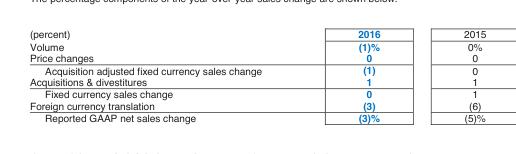table: (28, 29, 485, 123)
table column: (28, 29, 309, 123), (309, 29, 421, 123), (421, 29, 485, 123)
table column header: (28, 29, 485, 40)
table row: (28, 40, 485, 52), (28, 52, 485, 64), (28, 64, 485, 76), (28, 76, 485, 88), (28, 88, 485, 100), (28, 100, 485, 112), (28, 29, 485, 40), (28, 112, 485, 123)
